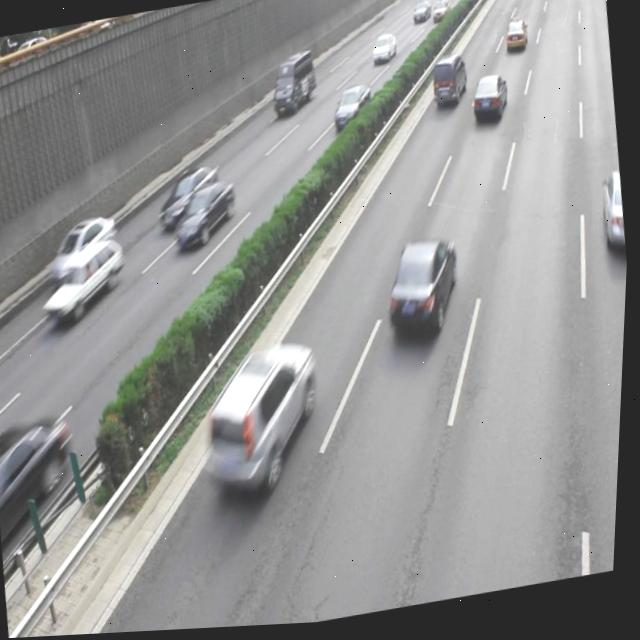car: (193, 338, 332, 503), (0, 411, 87, 570), (380, 236, 468, 344), (37, 236, 132, 323), (45, 211, 122, 281), (169, 179, 242, 252), (153, 160, 225, 232), (597, 176, 631, 263), (468, 77, 511, 132), (330, 87, 374, 135)
truck: (427, 56, 469, 113)
